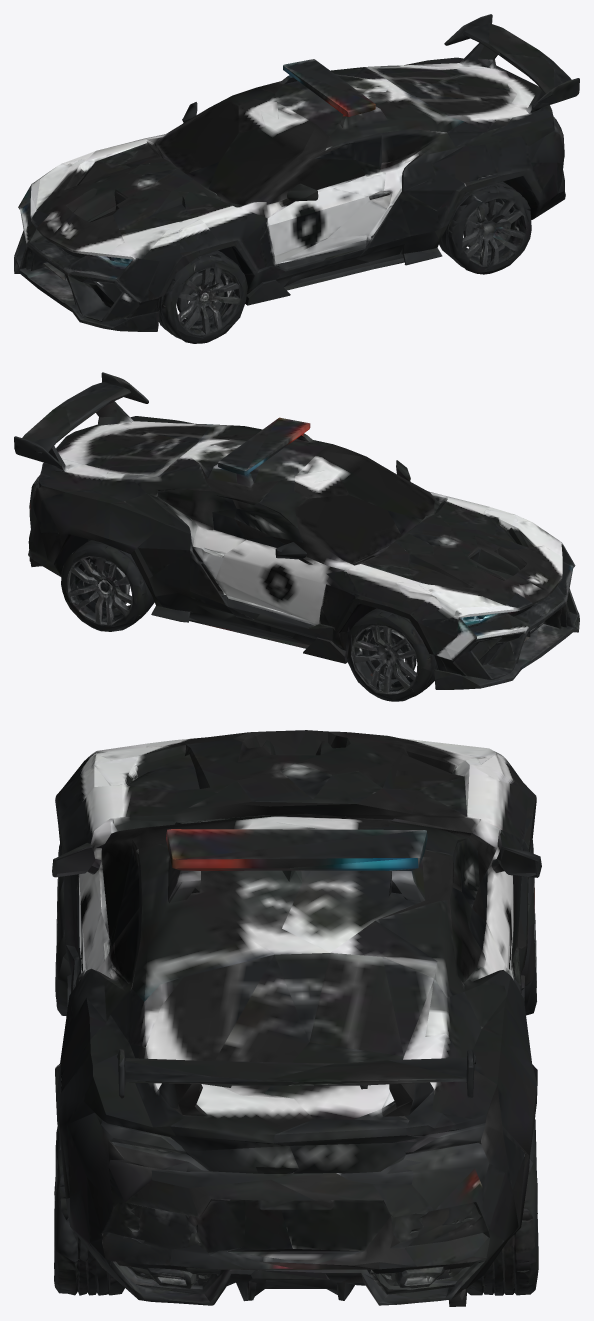
File: mx_car_police.glb
The picture shows the model from 3 angles, top to bottom: view 1: azimuth 30°, elevation 25°; view 2: azimuth 150°, elevation 25°; view 3: azimuth 270°, elevation 25°; orthographic projection. The views are drawn at different scales.
Size of the model in its own units: 1.9 by 0.6314 by 0.8151.
Materials: 1 (1 with a texture image).
